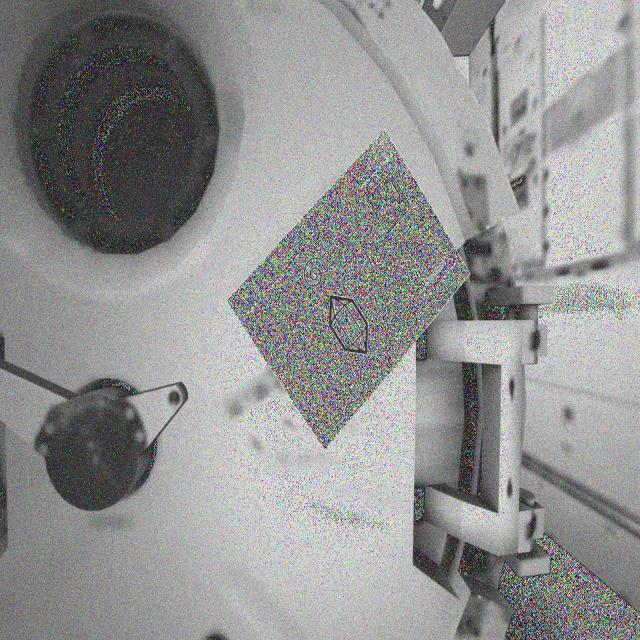crystal: (316, 284, 383, 373)
fossil: (293, 255, 341, 292)
